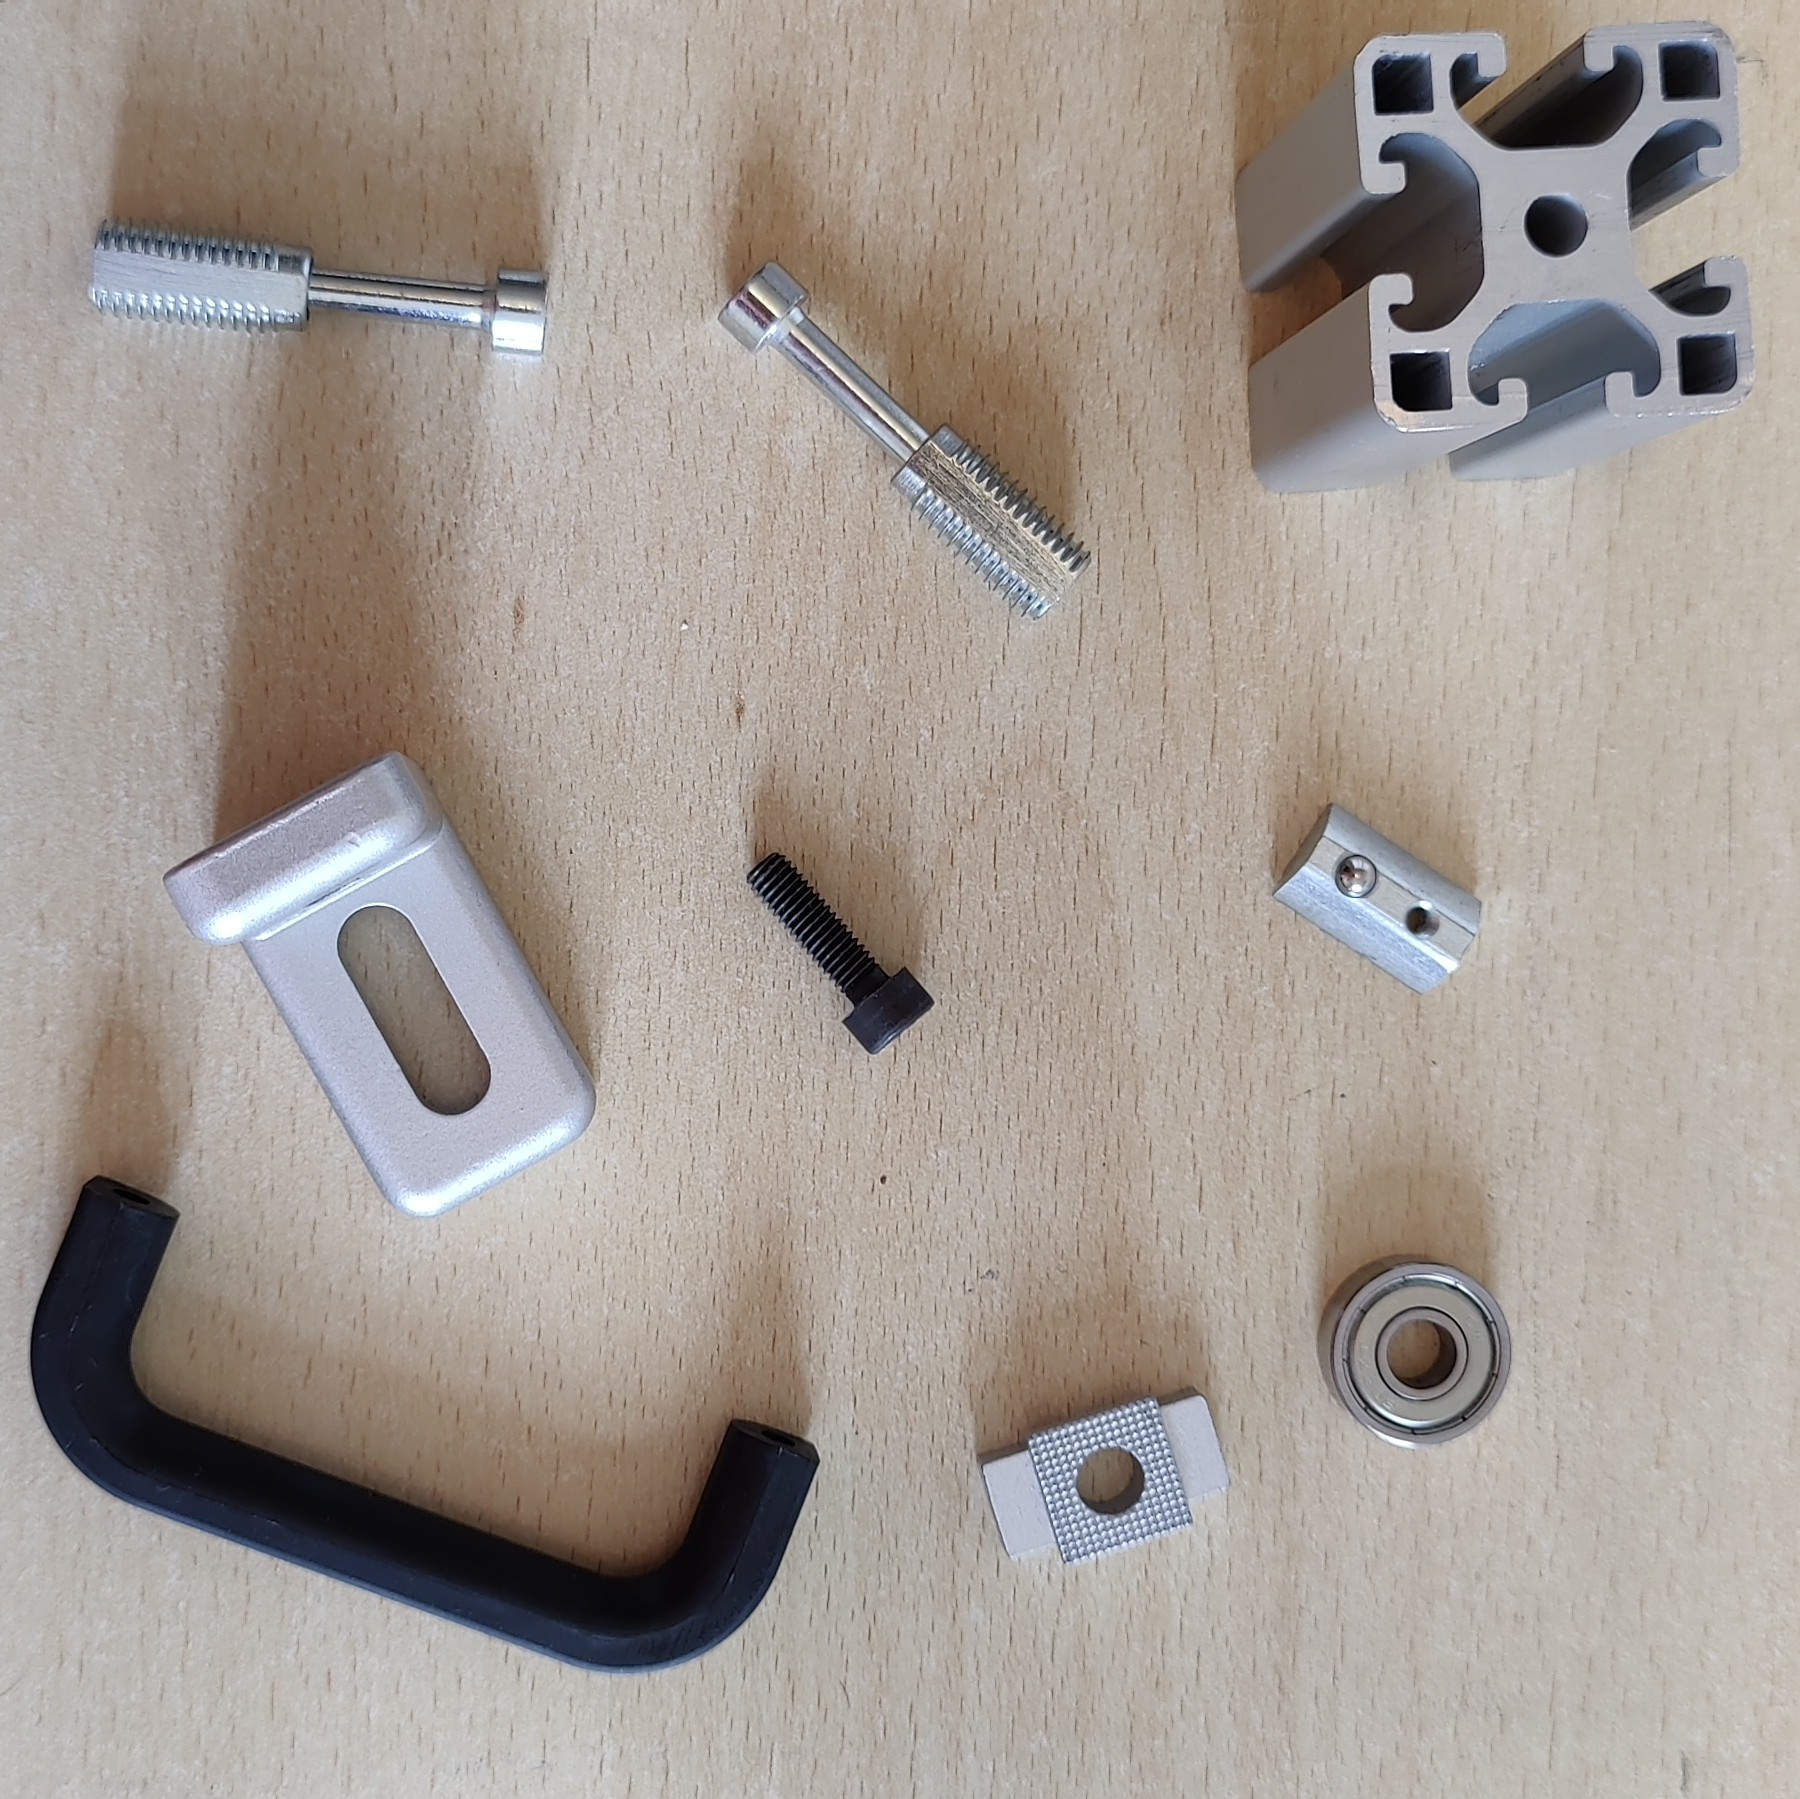Aluminium Extension: (1232, 16, 1760, 498)
Ball Bearing: (1314, 1254, 1515, 1450)
Multiwinkel: (160, 745, 599, 1221)
Pull Handle: (26, 1170, 823, 1675)
Shoulder Socket Head Cap Screw: (716, 259, 1097, 621), (86, 217, 552, 362)
Socket Head Cap Screw: (739, 848, 939, 1056)
T Nut Square: (973, 1382, 1233, 1568)
T Spring Nut: (1266, 797, 1485, 998)
